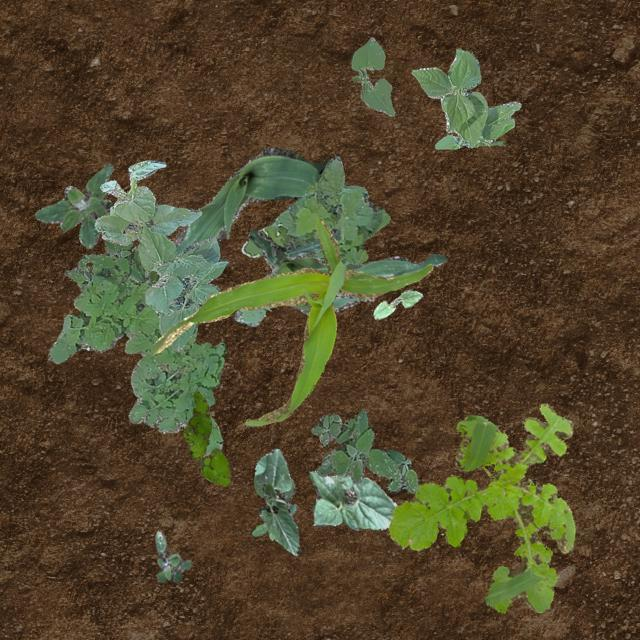crop: (150, 218, 432, 426), (94, 160, 228, 350), (148, 147, 328, 280), (248, 228, 446, 312), (410, 48, 520, 148), (309, 470, 397, 530), (253, 448, 300, 554), (349, 36, 394, 116), (372, 288, 422, 318)
weed: (388, 402, 574, 612), (48, 246, 226, 457), (233, 156, 389, 326), (310, 410, 418, 492), (34, 162, 112, 248), (182, 390, 230, 484), (64, 238, 144, 284), (154, 530, 190, 582), (250, 502, 296, 540), (252, 474, 294, 506)
